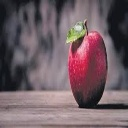apple: (68, 21, 108, 107)
